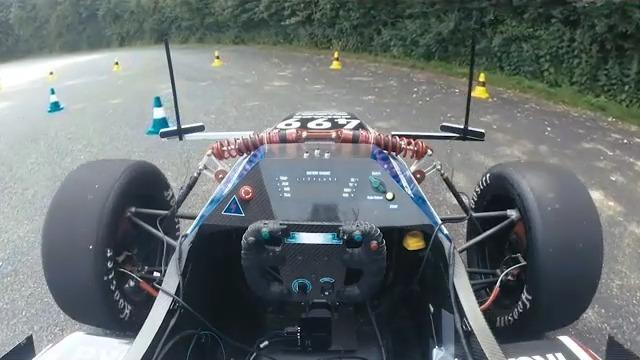blue_cone: (143, 94, 175, 137), (44, 86, 63, 114)
yellow_cone: (470, 67, 492, 100), (329, 50, 342, 71), (211, 51, 224, 68), (45, 70, 56, 84), (111, 58, 121, 72)
